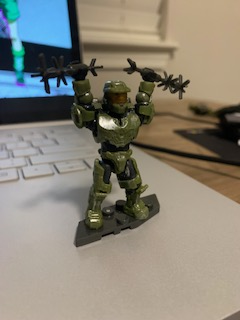chief: (66, 60, 158, 229)
spartan: (64, 58, 156, 227)
up: (65, 62, 157, 145)
